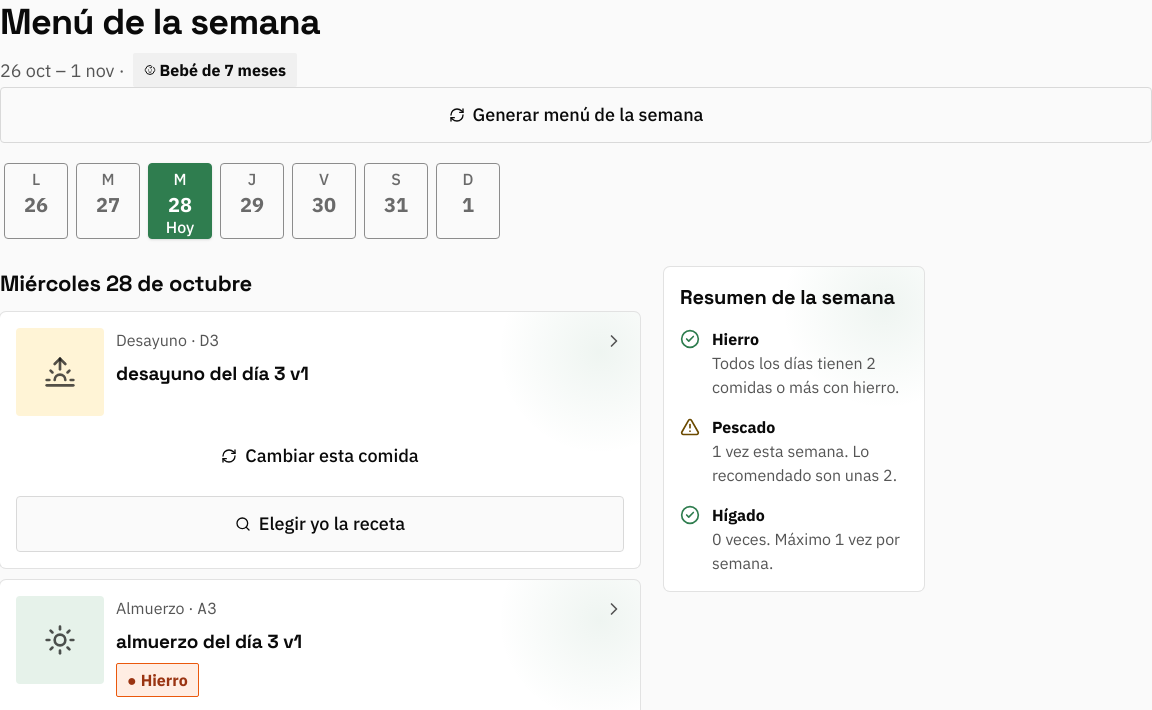
menú semanal › generar de nuevo pide confirmación antes de reemplazar el menú
The image size is (1152, 710).
Check: the heading "desayuno del día 3 v1" is shown, box [116,361,309,386]
Step 1. Click the button "Generar menú de la semana" → point(576, 115), box [0,87,1151,143]
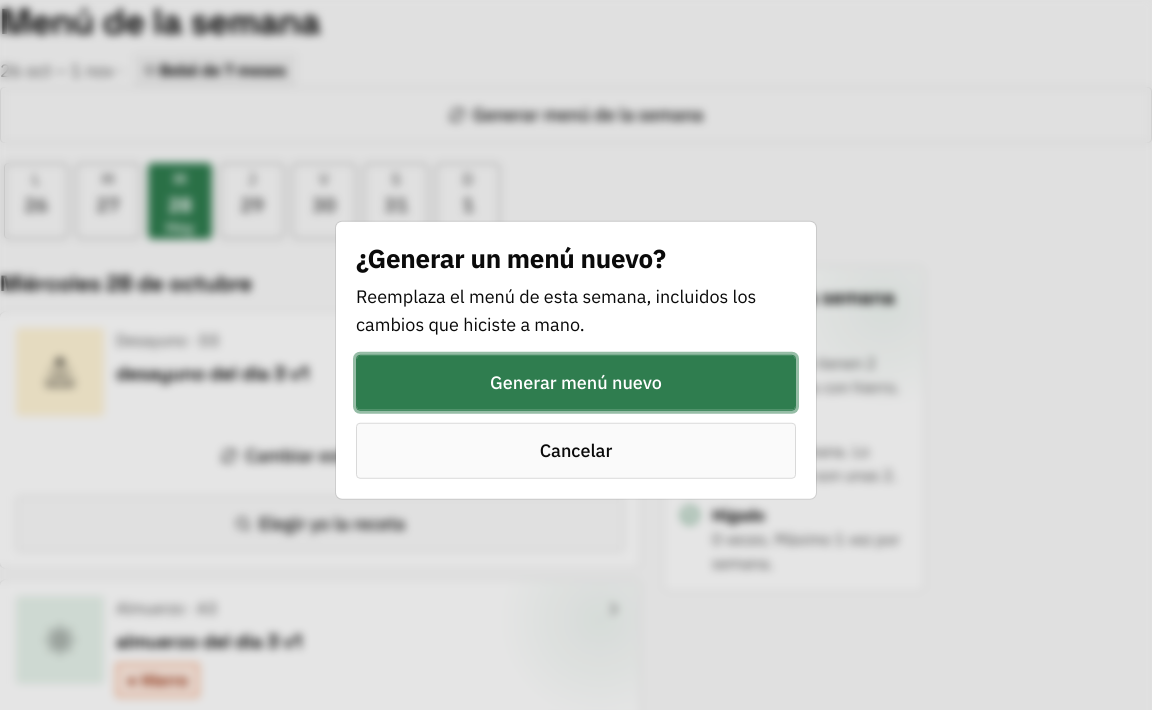
Check: the heading "¿Generar un menú nuevo?" is shown, box [356,241,666,275]
Step 2. Click the button "Generar menú nuevo" → point(576, 382), box [356,354,796,410]
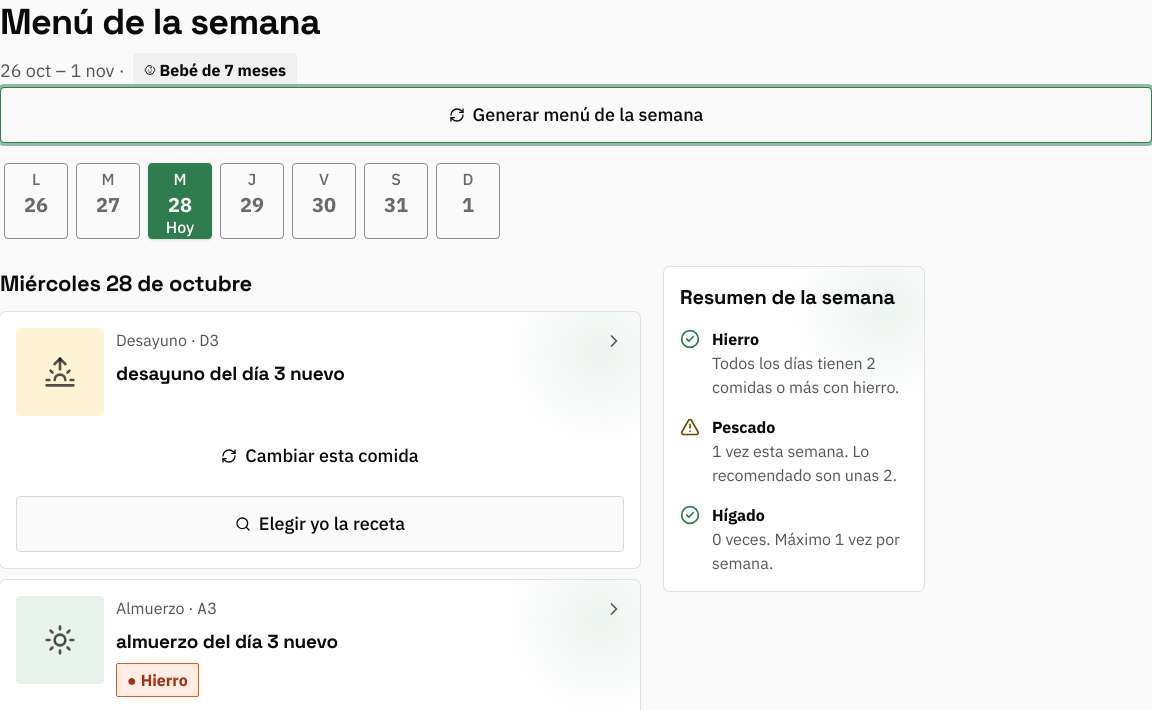
Check: the heading "desayuno del día 3 nuevo" is shown, box [116,361,345,386]
